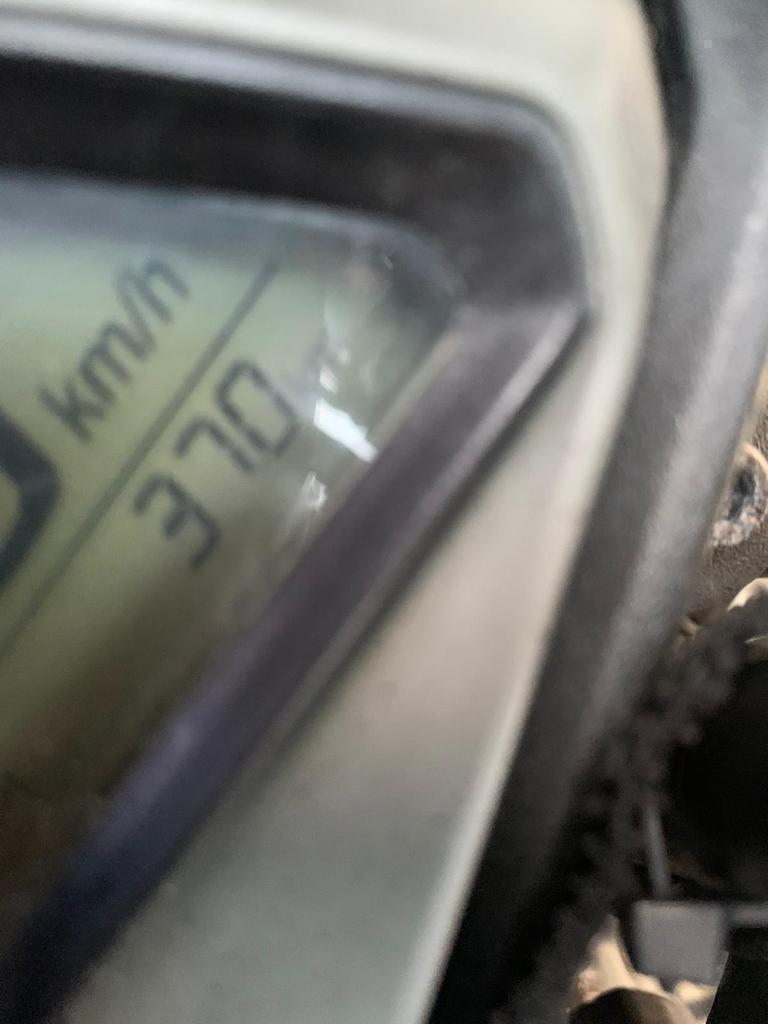0: (212, 357, 299, 459)
3: (130, 470, 220, 571)
7: (168, 413, 257, 483)
X: (78, 328, 143, 402), (117, 256, 186, 324), (36, 381, 102, 442), (109, 282, 156, 344)
odometer: (0, 136, 489, 964)
